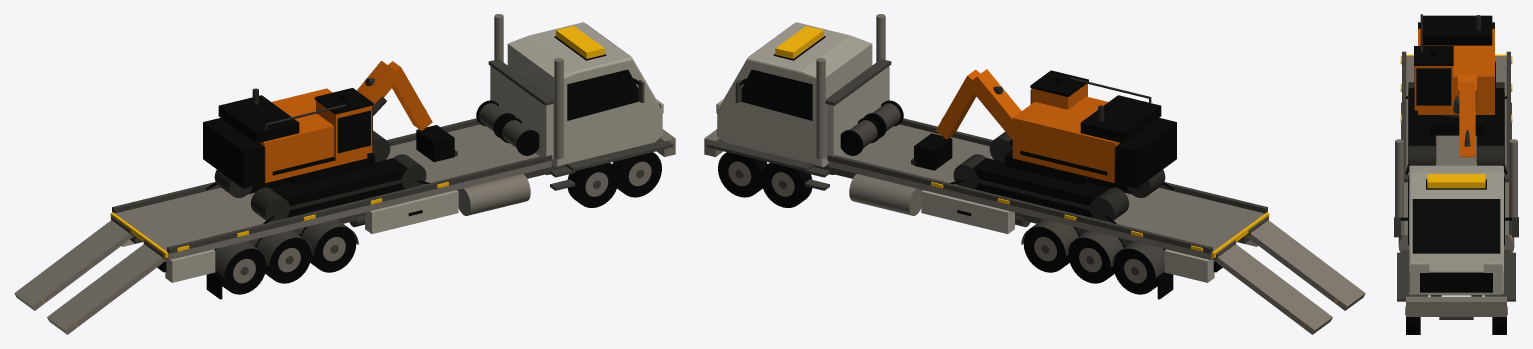
The model's file is rollout-heavy-haul-carrier.obj.
3 views of the same model, side by side, from view 1: azimuth 30°, elevation 25°; view 2: azimuth 150°, elevation 25°; view 3: azimuth 270°, elevation 25° (orthographic). The views are drawn at different scales.
Visible parts, largest first — view 1: deck_platform, cab_shell, house, track_l, ramp_l, ramp_r, counterweight, deck_rail_l, cab_side_glass, headboard, engine_cover, deck_locker_l (+27 smaller); view 2: deck_platform, cab_shell, house, track_r, ramp_r, ramp_l, counterweight, deck_rail_r, cab_side_glass, headboard, engine_cover, deck_locker_r (+26 smaller); view 3: cab_shell, windshield, house, bumper, engine_cover, deck_platform, grille, operator_glass_front, stick, track_r, track_l, beacon_bar (+28 smaller).
Part boxes in pixels (bbox=[...]): deck_platform: bbox=[115, 124, 551, 260]; cab_shell: bbox=[507, 22, 662, 167]; house: bbox=[260, 88, 367, 183]; track_l: bbox=[270, 158, 407, 217]; ramp_l: bbox=[47, 244, 167, 334]; ramp_r: bbox=[14, 220, 134, 310]; counterweight: bbox=[203, 118, 265, 188]; deck_rail_l: bbox=[167, 155, 552, 253]; cab_side_glass: bbox=[567, 69, 638, 120]; headboard: bbox=[490, 66, 553, 159]; engine_cover: bbox=[218, 95, 299, 143]; deck_locker_l: bbox=[365, 190, 458, 233]; deck_platform: bbox=[828, 124, 1264, 260]; cab_shell: bbox=[717, 22, 872, 167]; house: bbox=[1012, 96, 1119, 182]; track_r: bbox=[972, 158, 1109, 217]; ramp_r: bbox=[1212, 244, 1332, 334]; ramp_l: bbox=[1245, 220, 1365, 310]; counterweight: bbox=[1114, 118, 1176, 188]; deck_rail_r: bbox=[827, 155, 1212, 253]; cab_side_glass: bbox=[741, 69, 812, 120]; headboard: bbox=[826, 66, 889, 159]; engine_cover: bbox=[1080, 95, 1161, 143]; deck_locker_r: bbox=[921, 190, 1014, 233]; cab_shell: bbox=[1409, 165, 1503, 294]; windshield: bbox=[1412, 199, 1500, 253]; house: bbox=[1418, 28, 1494, 114]; bumper: bbox=[1406, 296, 1506, 316]; engine_cover: bbox=[1423, 15, 1492, 45]; deck_platform: bbox=[1403, 56, 1509, 240]; grille: bbox=[1420, 272, 1492, 292]; operator_glass_front: bbox=[1416, 68, 1451, 105]; stick: bbox=[1459, 82, 1475, 157]; track_r: bbox=[1477, 88, 1504, 145]; track_l: bbox=[1408, 88, 1435, 145]; beacon_bar: bbox=[1427, 174, 1485, 188].
Bounding box in the file's own units: 18.35 × 4.7 × 3.41.
